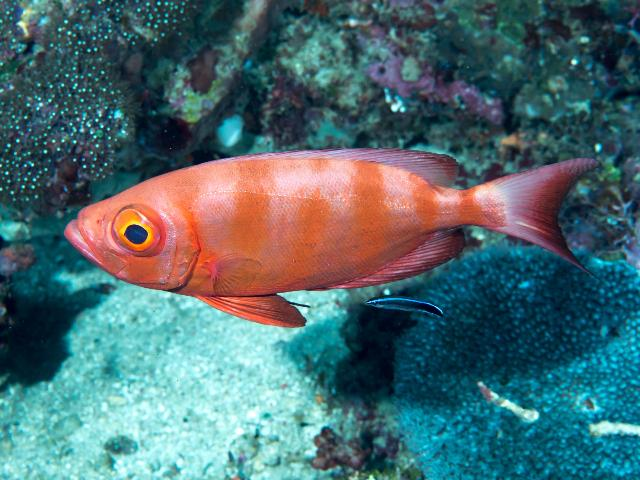Mulut: (46, 193, 110, 276)
Sirip Anal: (337, 228, 473, 294)
Sirip Dada: (200, 250, 276, 300)
Sirip Ekor: (477, 149, 609, 275)
Sirip Perut: (206, 290, 314, 338)
Sirip Punggung: (237, 137, 467, 197)
